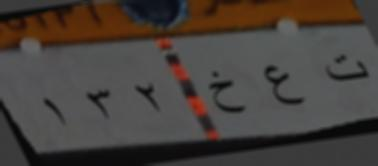1: (43, 91, 68, 130)
2: (135, 79, 163, 112)
3: (84, 88, 117, 123)
ain: (262, 60, 308, 112)
khaa: (205, 67, 247, 116)
taa: (318, 52, 368, 85)
